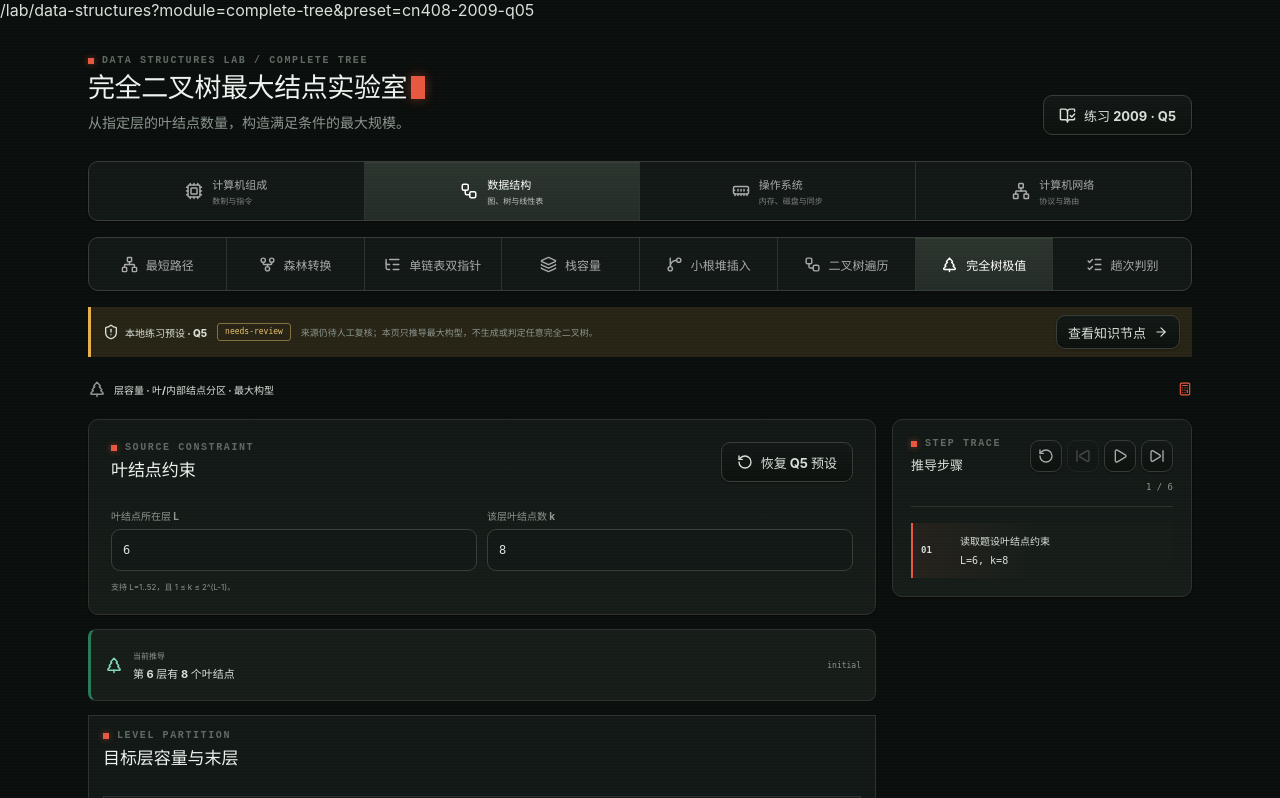
Test: CompleteBinaryTreeLabPage › reveals the maximum construction in causal order and concludes 111 only at completion
The image size is (1280, 798).
Check: the element named "当前推导状态" shows "第 6 层有 8 个叶结点", box [133, 667, 235, 681]
Click the button named "下一步". click: (1157, 456)
box: [1141, 440, 1173, 472]
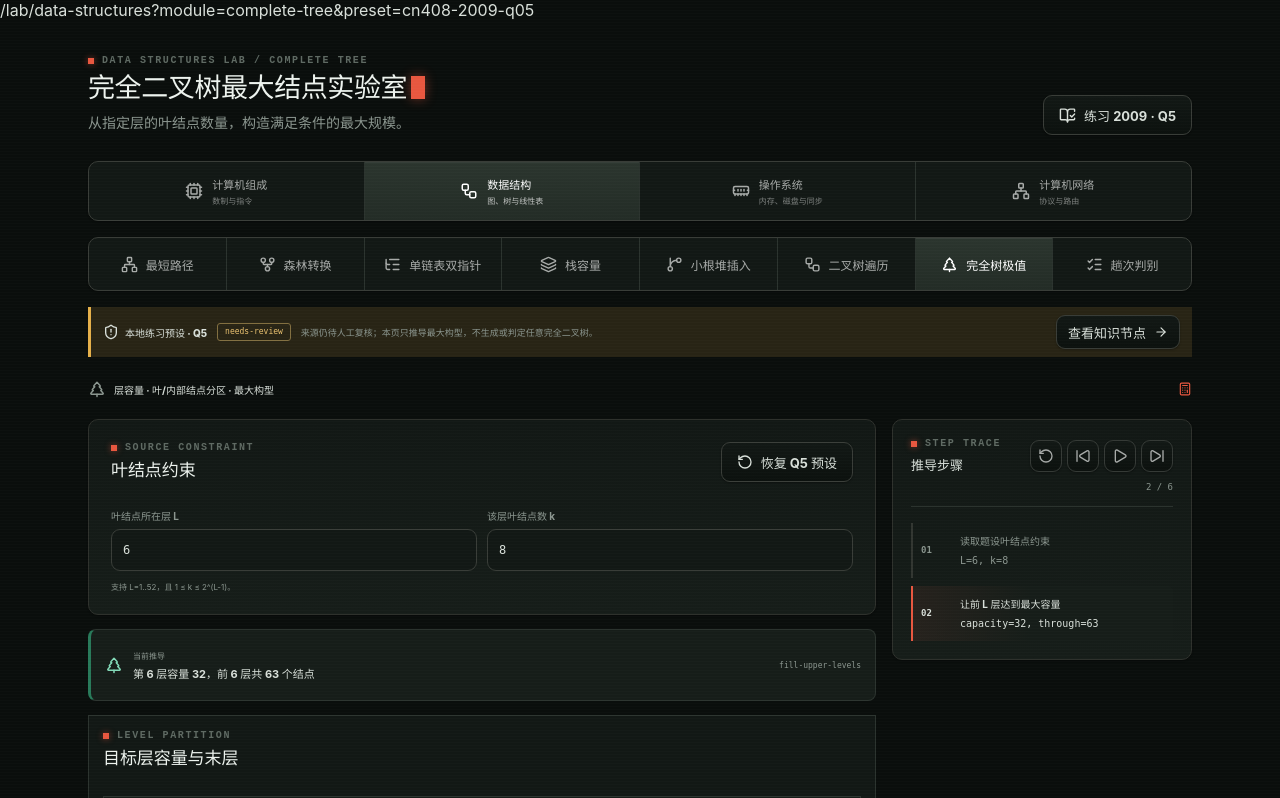
Check: the element named "当前推导状态" shows "容量 32", box [133, 667, 315, 681]
Check: the element named "当前推导状态" shows "前 6 层共 63 个结点", box [133, 667, 315, 681]
Click the button named "下一步". click: (1157, 456)
box: [1141, 440, 1173, 472]
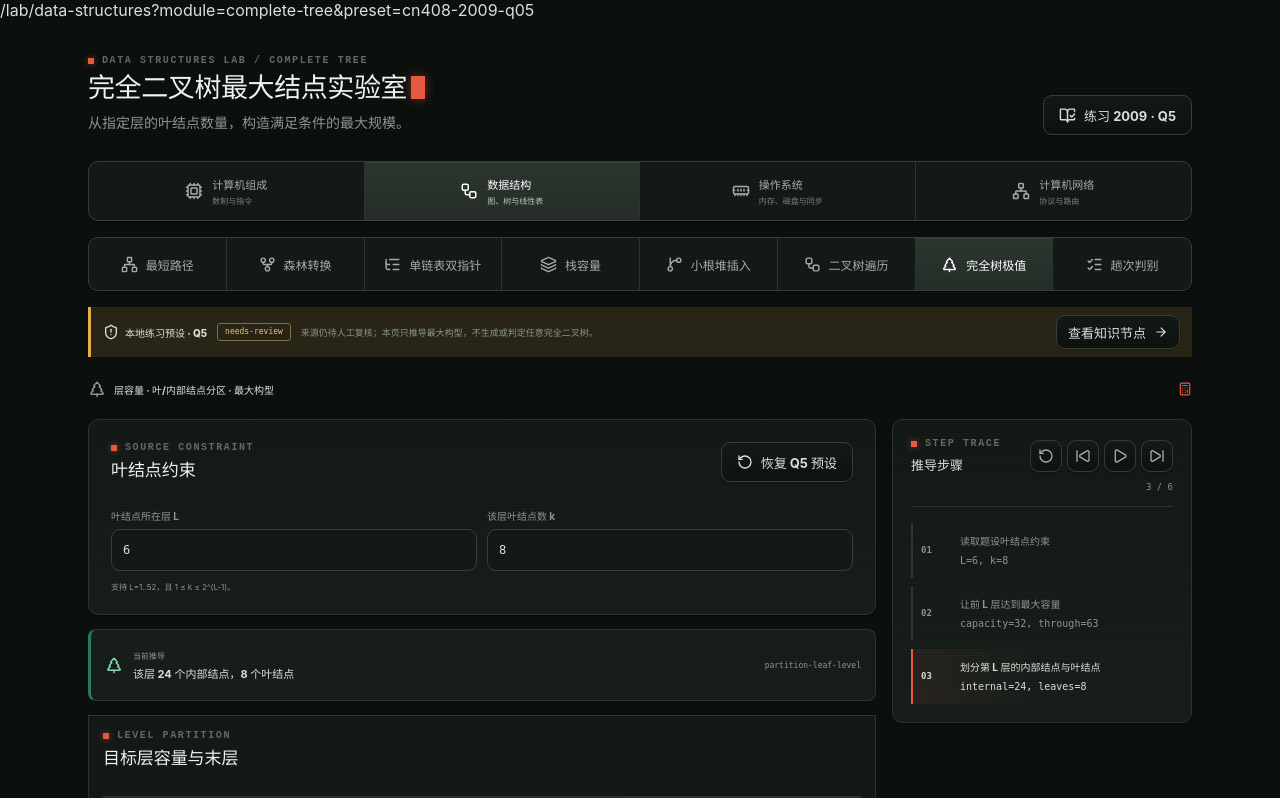
Click the button named "下一步". click: (1157, 456)
box: [1141, 440, 1173, 472]
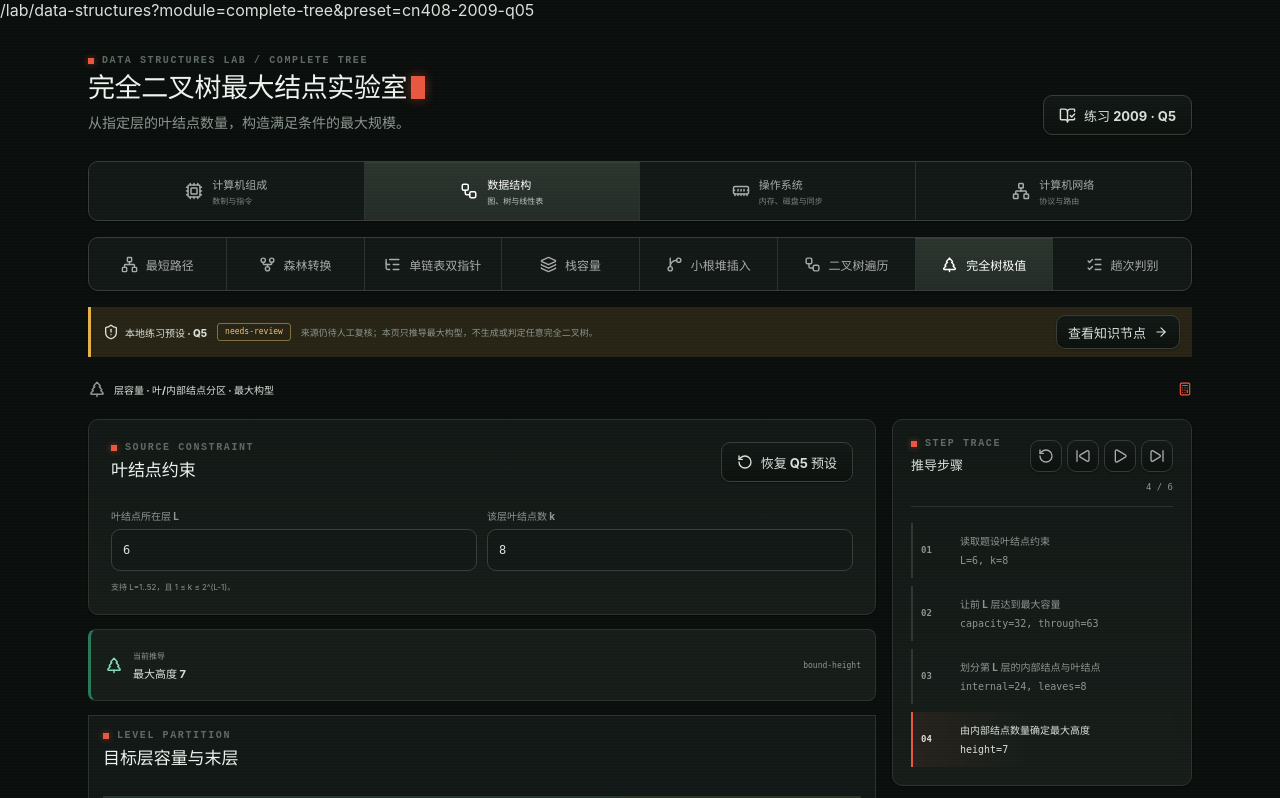
Check: the element named "当前推导状态" shows "最大高度 7", box [133, 667, 186, 681]
Click the button named "下一步". click: (1157, 456)
box: [1141, 440, 1173, 472]
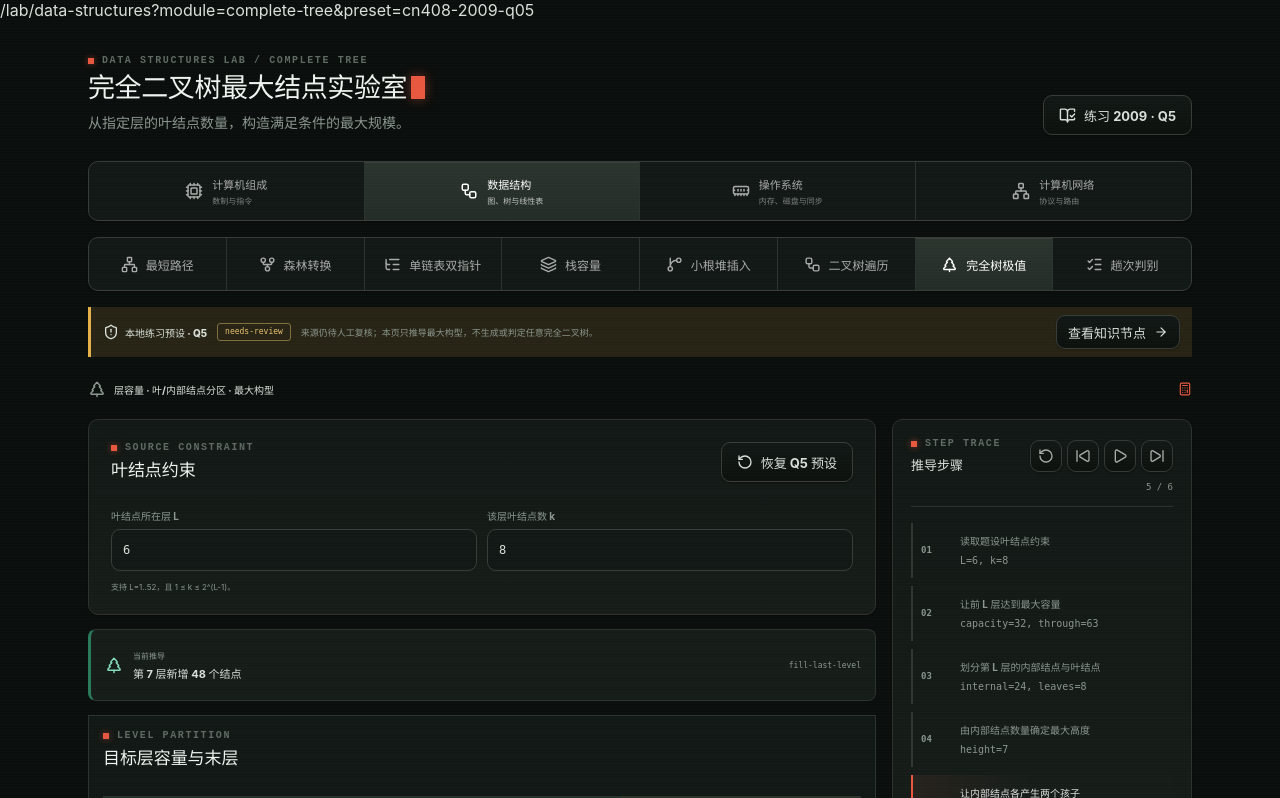
Check: the element named "当前推导状态" shows "第 7 层新增 48 个结点", box [133, 667, 241, 681]
Click the button named "下一步". click: (1157, 456)
box: [1141, 440, 1173, 472]
(page scrolled)
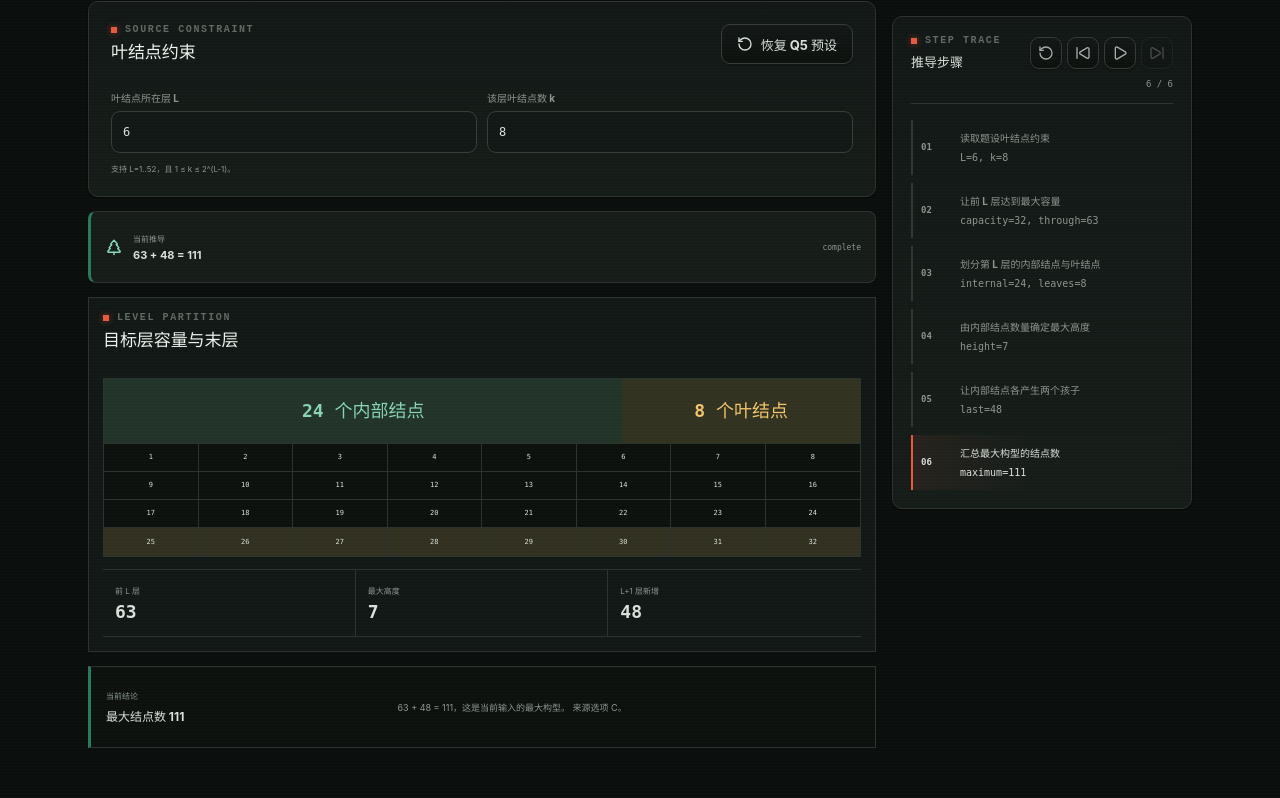
Check: the element named "当前最大结点结论" shows "最大结点数 111", box [106, 710, 184, 724]
Check: the element named "当前最大结点结论" shows "来源选项 C", box [398, 702, 627, 712]
Check: the element named "当前最大结点结论" shows "最大构型", box [398, 702, 627, 712]
